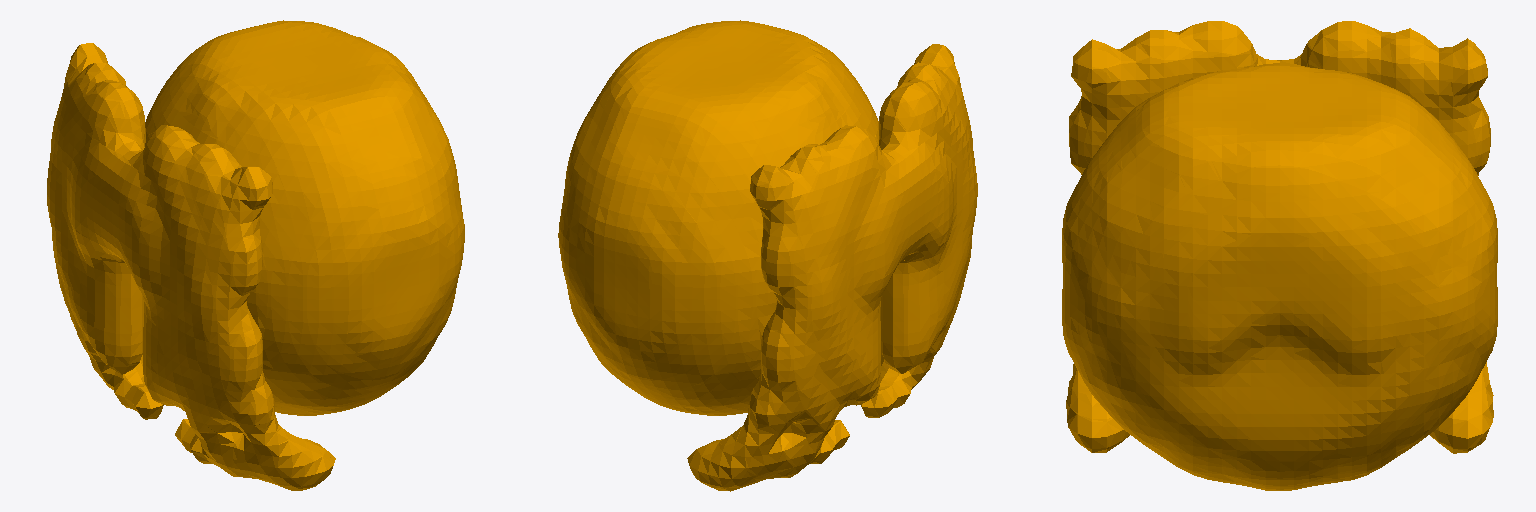
URDF robot description (H12_1):
<?xml version="1.0"?>
<robot name="H12_1">
  <link name="base_link">
    <visual>
      <geometry>
        <mesh filename="../../../../meshes/egad/train/H12_1.obj" />
      </geometry>
    </visual>
  </link>
</robot>

--- Render facts (derived) ---
Views: 3 orthographic renders of the robot side by side, from view 1: azimuth 30°, elevation 25°; view 2: azimuth 150°, elevation 25°; view 3: azimuth 270°, elevation 25°.
Model H12_1 with 1 links and 0 joints (none), rooted at base_link, posed every joint at zero.
Visible links, largest first — view 1: base_link; view 2: base_link; view 3: base_link.
Link boxes in pixels (left/top/right/bottom): base_link: left=47, top=20, right=464, bottom=490; base_link: left=558, top=20, right=977, bottom=491; base_link: left=1062, top=21, right=1497, bottom=490.
Bounding box of the posed robot: 0.06 × 0.065 × 0.0645 m (x, y, z).
Meshes: 1 distinct files referenced, 1 mesh visuals loaded (1 OBJ).